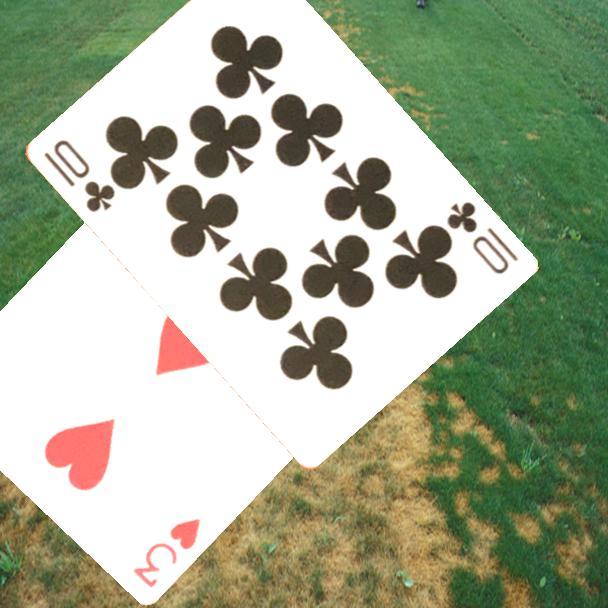c10: (39, 135, 118, 216), (442, 198, 521, 278)
h03: (129, 513, 204, 591)
